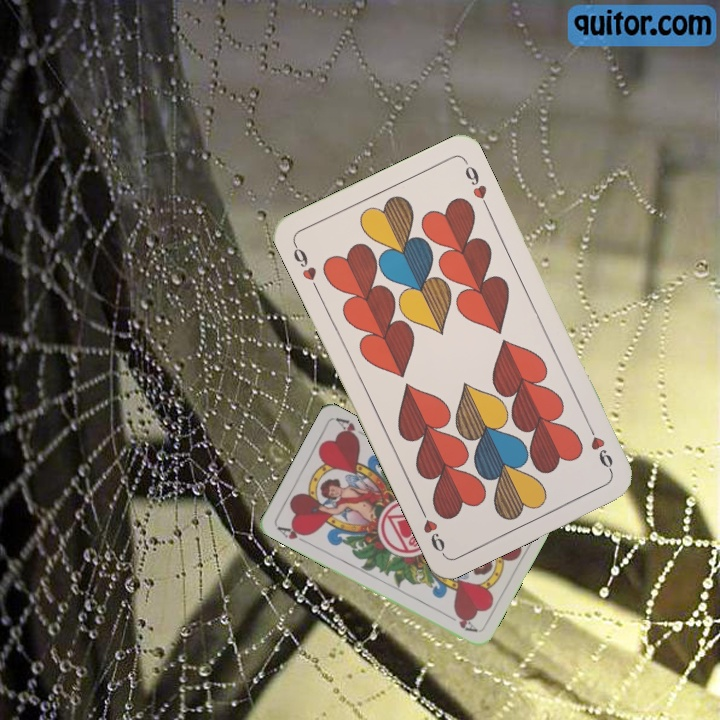H9: (289, 239, 322, 294), (583, 420, 616, 475)
HA: (273, 522, 311, 546)
